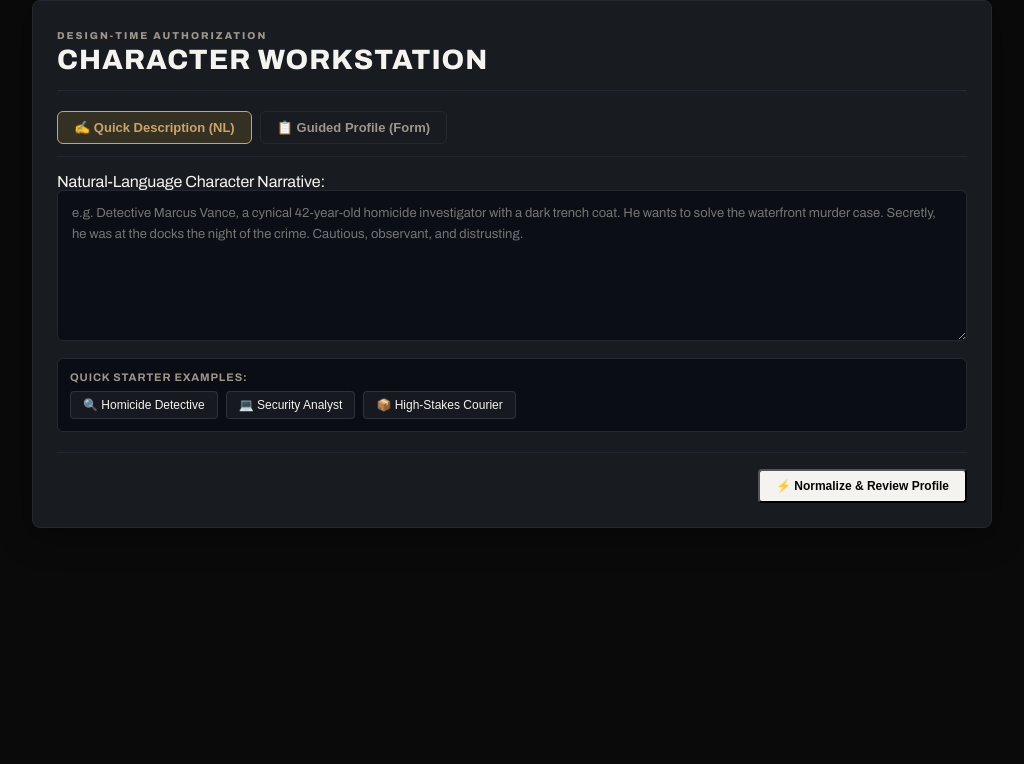
Test case: CharacterWorkstation Component (Phase A) › normalizes free-text description and transitions to Review Panel
The width and height of the screenshot is (1024, 764).
Replace the text in the text box with placeholder "e.g. Detective Marcus Vance" with "Detective Marcus Vance wants to solve the murder.". click: (512, 265)
box: [57,190,967,341]
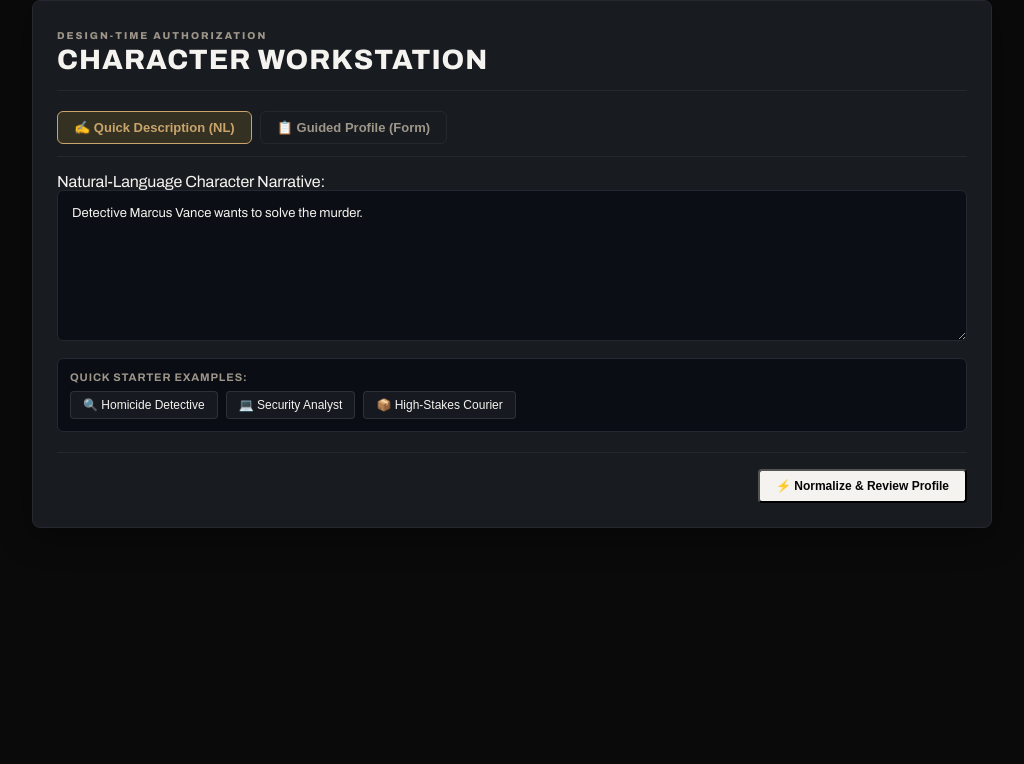
Click the button "⚡ Normalize & Review Profile". click: (862, 486)
box: [758,469,967,503]
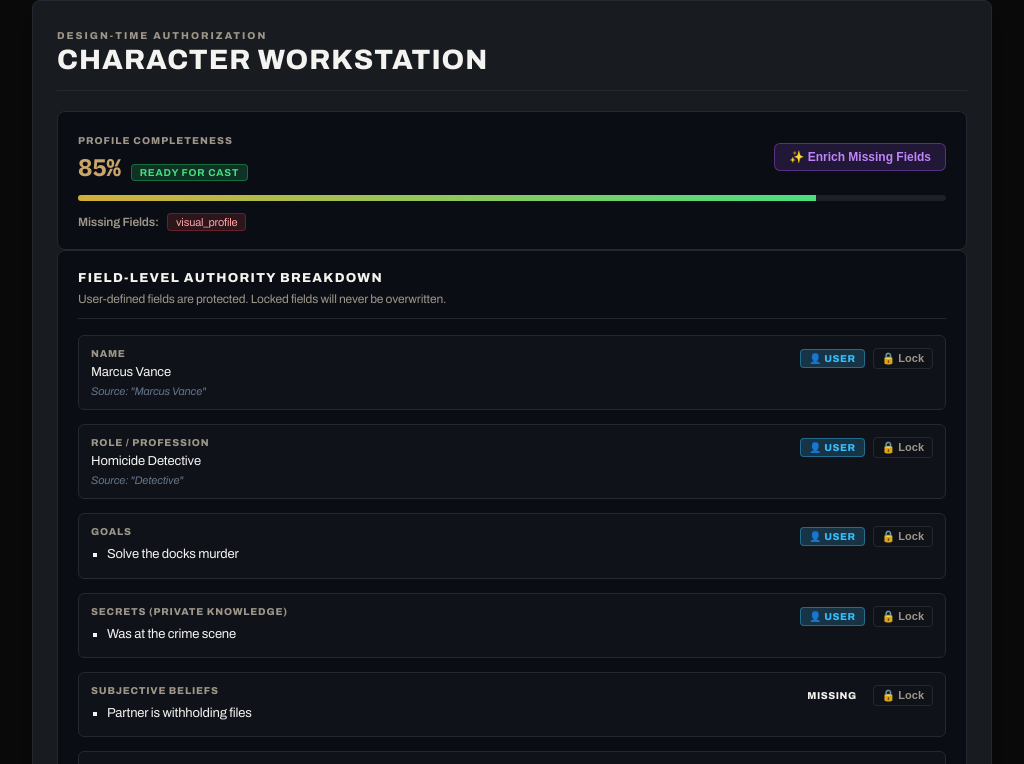
Expected: the text "PROFILE COMPLETENESS" is shown, [78,135,233,146]
Expected: the text "85%" is shown, [78,151,121,183]
Expected: the text "READY FOR CAST" is shown, [131,164,248,181]
